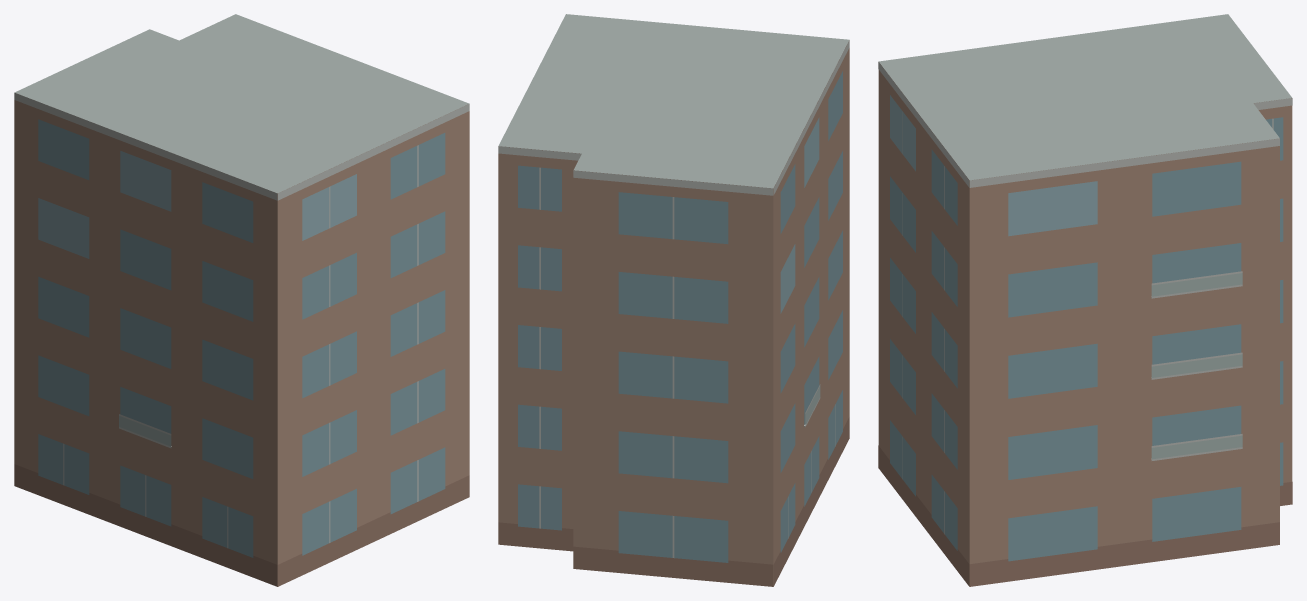
Rendered from survey-upis-32621369.glb.
3 views of the same model, side by side, from view 1: azimuth 30°, elevation 25°; view 2: azimuth 150°, elevation 25°; view 3: azimuth 270°, elevation 25° (orthographic). The views are drawn at different scales.
Parts seen in each view (by area): view 1: survey-upis-32621369.tmp; view 2: survey-upis-32621369.tmp; view 3: survey-upis-32621369.tmp.
Boxes of the visible parts, x1,y1,x2,y2 form: survey-upis-32621369.tmp: (14, 14, 469, 586); survey-upis-32621369.tmp: (498, 14, 849, 586); survey-upis-32621369.tmp: (878, 14, 1292, 586).
Bounding box in the file's own units: 11.51 × 13.1 × 12.1.
